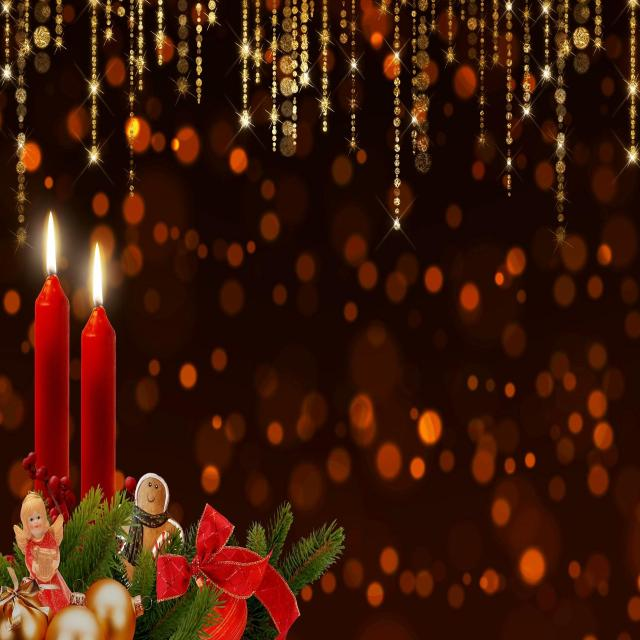Fire_Save: (32, 209, 71, 517), (79, 240, 117, 528)
